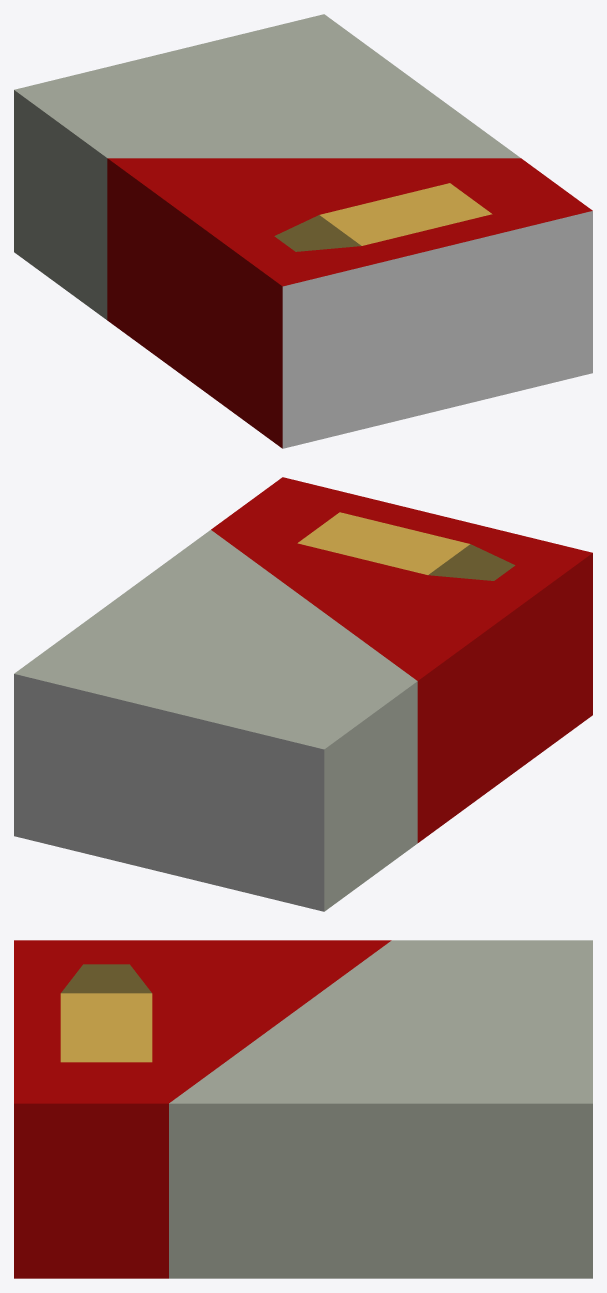
Rendered from AmmoSmall_9mm.FBX.
3 renders of one model, top to bottom at view 1: azimuth 30°, elevation 25°; view 2: azimuth 150°, elevation 25°; view 3: azimuth 270°, elevation 25°, orthographic. The views are drawn at different scales.
Parts seen in each view (by area): view 1: AmmoSmall_9mm; view 2: AmmoSmall_9mm; view 3: AmmoSmall_9mm.
Part boxes in pixels (bbox=[...]): AmmoSmall_9mm: bbox=[14, 14, 592, 448]; AmmoSmall_9mm: bbox=[14, 477, 592, 911]; AmmoSmall_9mm: bbox=[14, 940, 592, 1278].
Bounding box in the file's own units: 8 × 12 × 4.
